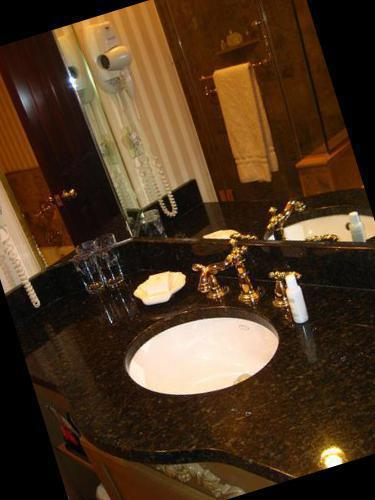Lavamanos: (92, 231, 330, 427), (258, 186, 375, 271)
